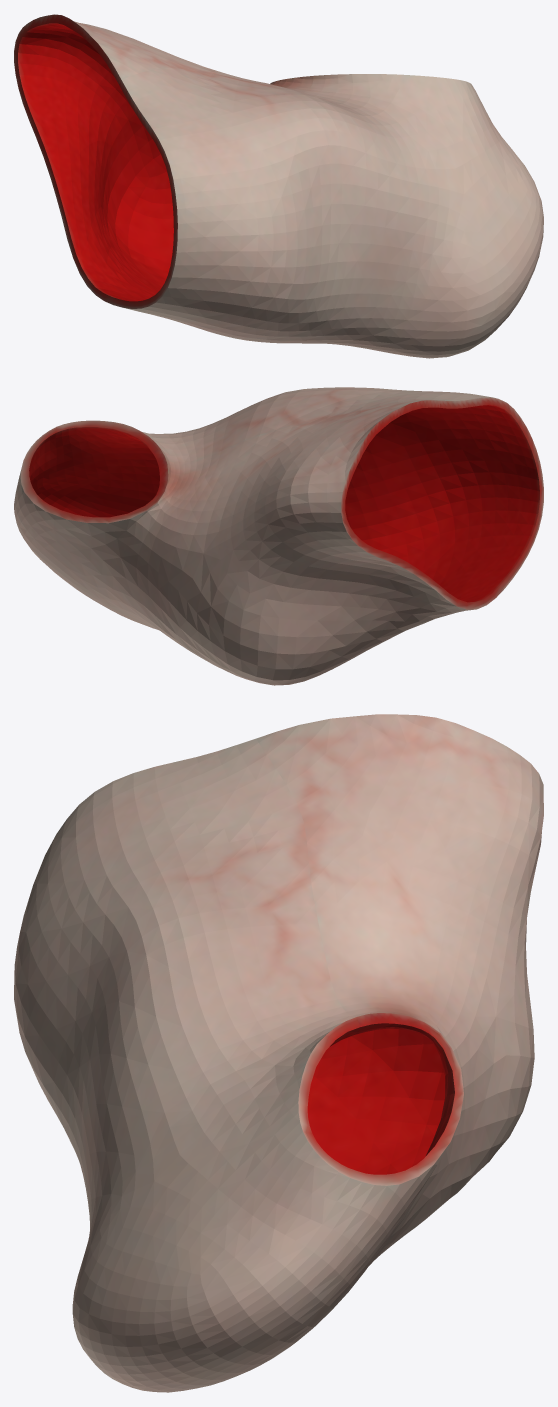
Rendered from stom_pyloric_antrum_LP.glb.
The picture shows the model from 3 angles, top to bottom: view 1: azimuth 30°, elevation 25°; view 2: azimuth 150°, elevation 25°; view 3: azimuth 270°, elevation 25°; orthographic projection. The views are drawn at different scales.
Parts seen in each view (by area): view 1: stom_pyloric_antrum_LP; view 2: stom_pyloric_antrum_LP; view 3: stom_pyloric_antrum_LP.
Part boxes in pixels (x1,y1,x2,y2): stom_pyloric_antrum_LP: (14, 14, 543, 358); stom_pyloric_antrum_LP: (14, 387, 543, 685); stom_pyloric_antrum_LP: (14, 714, 543, 1392).
Bounding box in the file's own units: 0.00166 × 0.0012 × 0.00121.
Materials: 1 (1 with a texture image).
